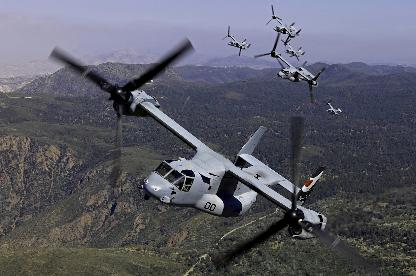Tornado: (46, 36, 378, 270), (254, 32, 326, 103), (266, 5, 300, 44), (221, 26, 250, 56), (281, 38, 306, 60), (323, 99, 343, 118)
